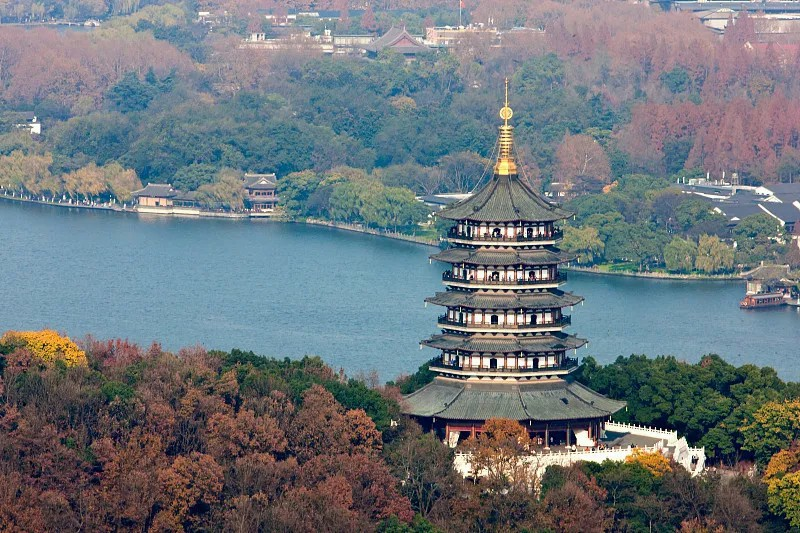Leifeng: (391, 79, 629, 446)
